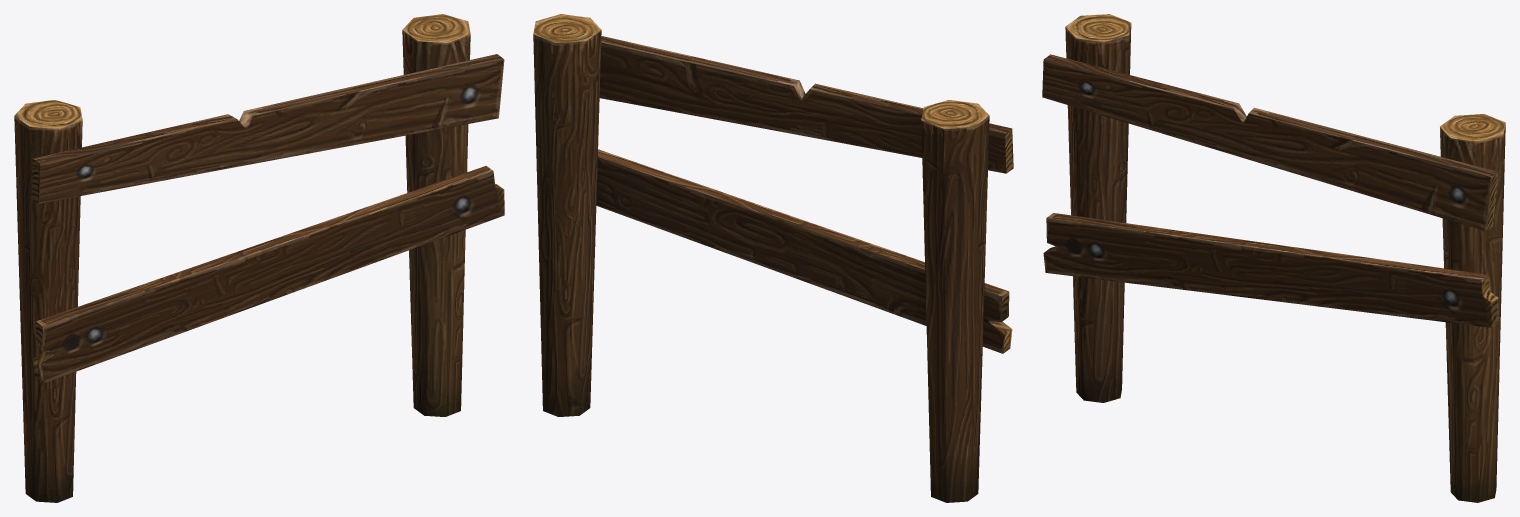
File: Fence3.fbx
The picture shows the model from 3 angles, left to right: view 1: azimuth 30°, elevation 25°; view 2: azimuth 150°, elevation 25°; view 3: azimuth 330°, elevation 25°; orthographic projection. The views are drawn at different scales.
Visible parts, largest first — view 1: polySurface508; view 2: polySurface508; view 3: polySurface508.
Boxes of the visible parts, x1,y1,x2,y2 form: polySurface508: (14, 14, 504, 502); polySurface508: (533, 14, 1013, 502); polySurface508: (1042, 14, 1505, 502).
Size of the model in its own units: 1.74 by 1.38 by 0.268.
1 material, 1 textured.
